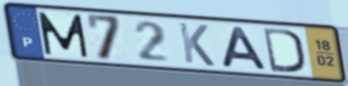2: (133, 20, 172, 64)
7: (86, 12, 126, 63)
A: (218, 25, 270, 71)
D: (261, 26, 307, 75)
K: (176, 20, 217, 68)
M: (35, 10, 91, 59)
